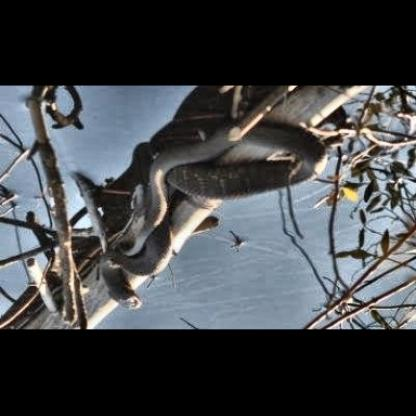Snake: (16, 96, 408, 314), (0, 85, 222, 323)
